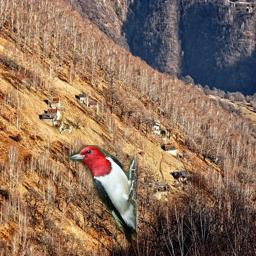Woodpecker: (66, 145, 140, 243)
